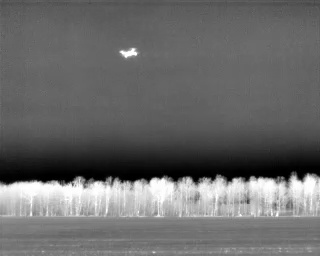DRONE: (116, 43, 143, 63)
